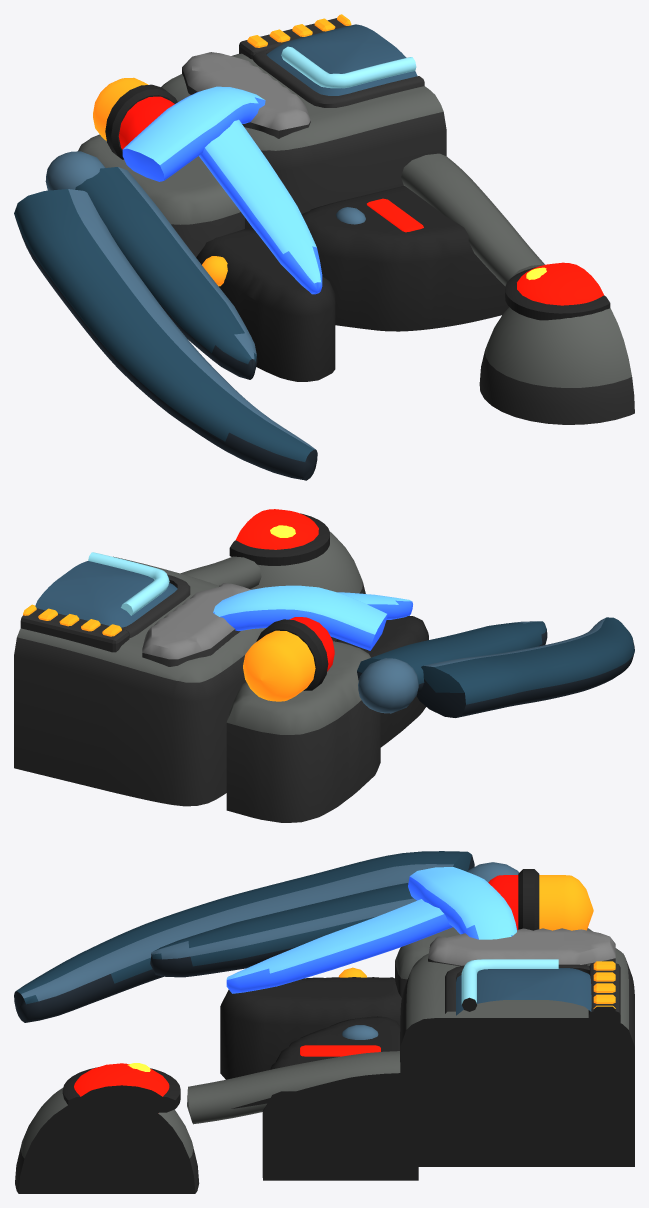
The model's file is walker_left.glb.
The picture shows the model from 3 angles, top to bottom: view 1: azimuth 30°, elevation 25°; view 2: azimuth 150°, elevation 25°; view 3: azimuth 270°, elevation 25°; orthographic projection. The views are drawn at different scales.
Visible parts, largest first — view 1: leg_outer.002, neck.001, hull.001, dome.001, leg_inner.002, strut.002, fin_blade.002, spine.001, fin_bar.002, shoulder.002, panel.002, canopy.001 (+9 smaller); view 2: hull.001, shoulder.002, leg_outer.002, fin_bar.002, canopy.001, panel.002, lamp.002, leg_inner.002, dome.001, knee.002, strut.002, lens.001 (+7 smaller); view 3: hull.001, leg_outer.002, dome.001, neck.001, strut.002, leg_inner.002, spine.001, fin_blade.002, panel.002, fin_bar.002, lens.001, canopy.001 (+9 smaller).
Part boxes in pixels (bbox=[...]): leg_outer.002: bbox=[14, 189, 317, 480]; neck.001: bbox=[301, 186, 508, 331]; hull.001: bbox=[161, 53, 446, 230]; dome.001: bbox=[479, 307, 634, 424]; leg_inner.002: bbox=[75, 167, 257, 379]; strut.002: bbox=[196, 229, 335, 381]; fin_blade.002: bbox=[199, 119, 322, 294]; spine.001: bbox=[401, 153, 544, 286]; fin_bar.002: bbox=[122, 86, 265, 181]; shoulder.002: bbox=[78, 134, 244, 257]; panel.002: bbox=[182, 52, 310, 138]; canopy.001: bbox=[266, 24, 417, 95]; hull.001: bbox=[14, 556, 265, 806]; shoulder.002: bbox=[226, 641, 380, 822]; leg_outer.002: bbox=[416, 617, 634, 717]; fin_bar.002: bbox=[213, 585, 387, 650]; canopy.001: bbox=[35, 561, 177, 627]; panel.002: bbox=[142, 583, 250, 666]; lamp.002: bbox=[243, 617, 334, 701]; leg_inner.002: bbox=[357, 621, 547, 692]; dome.001: bbox=[250, 532, 365, 641]; knee.002: bbox=[358, 658, 418, 713]; strut.002: bbox=[335, 615, 428, 747]; lens.001: bbox=[236, 509, 318, 549]; hull.001: bbox=[400, 948, 634, 1166]; leg_outer.002: bbox=[14, 851, 474, 1022]; dome.001: bbox=[15, 1088, 199, 1193]; neck.001: bbox=[262, 1016, 418, 1180]; strut.002: bbox=[220, 977, 401, 1079]; leg_inner.002: bbox=[150, 883, 416, 977]; spine.001: bbox=[187, 1051, 427, 1124]; fin_blade.002: bbox=[226, 899, 452, 993]; panel.002: bbox=[428, 928, 615, 966]; fin_bar.002: bbox=[408, 867, 516, 939]; lens.001: bbox=[74, 1063, 169, 1121]; canopy.001: bbox=[456, 968, 591, 1015].
Bounding box in the file's own units: 19.81 × 9.15 × 25.27.
